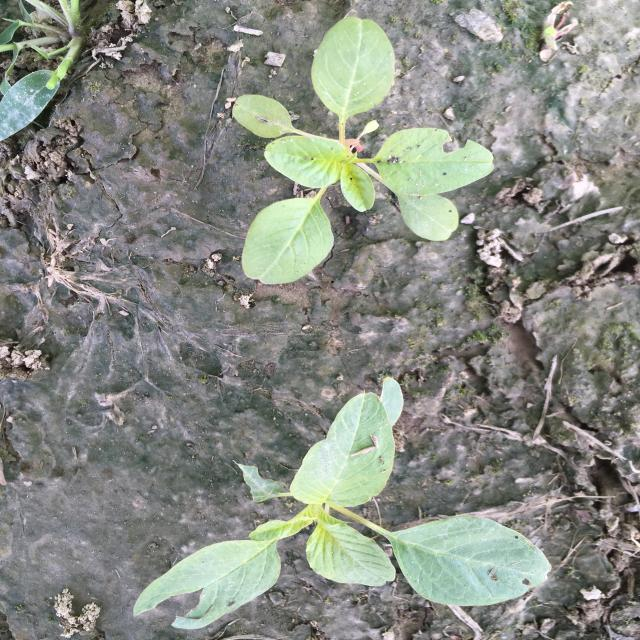PalmerAmaranth: (134, 377, 552, 629), (232, 18, 495, 284)
